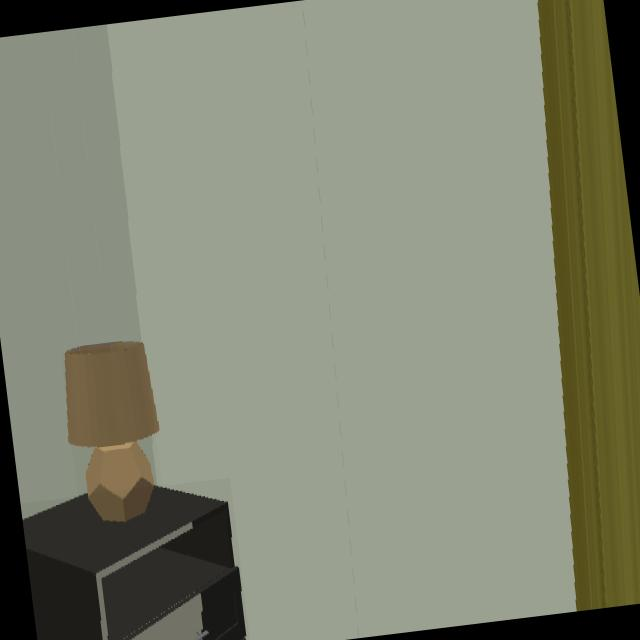lamp: (68, 345, 159, 525)
nighttable: (22, 487, 246, 640)
